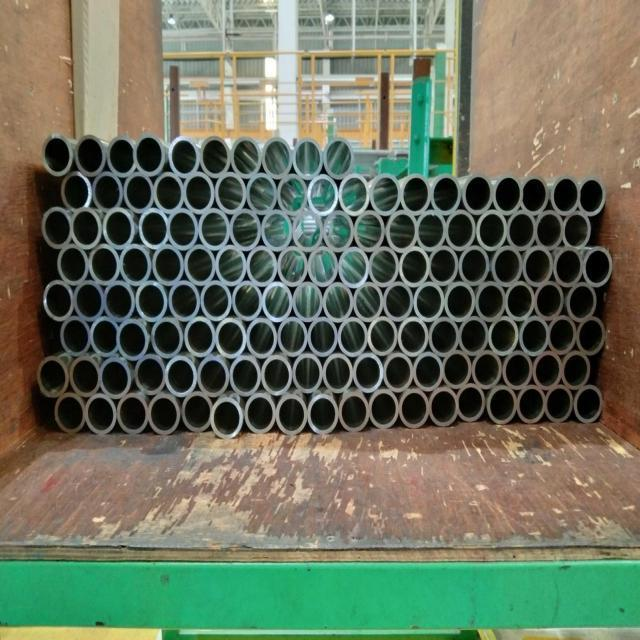pipe: (133, 353, 166, 398), (74, 132, 107, 177), (100, 354, 132, 400), (102, 207, 136, 250), (150, 316, 184, 359), (135, 279, 168, 323), (117, 317, 150, 361), (229, 354, 261, 399), (197, 354, 229, 399), (70, 353, 101, 399), (37, 355, 70, 398), (148, 391, 181, 434), (168, 279, 200, 323), (184, 316, 216, 360), (261, 353, 293, 397), (165, 354, 197, 398), (211, 394, 243, 438), (135, 133, 167, 177), (152, 243, 184, 286), (184, 243, 216, 286), (117, 391, 149, 434), (214, 171, 246, 214), (338, 173, 370, 216), (71, 206, 102, 250), (292, 208, 323, 252), (261, 209, 292, 253), (386, 209, 417, 253), (120, 242, 151, 286), (104, 279, 135, 323), (215, 316, 246, 360), (339, 389, 370, 433), (308, 391, 339, 435), (200, 134, 231, 178), (262, 135, 293, 179), (247, 171, 278, 215), (370, 172, 401, 216), (292, 352, 322, 397), (459, 245, 491, 287), (491, 245, 523, 287), (168, 136, 200, 178), (138, 207, 169, 250), (230, 208, 261, 251), (476, 209, 507, 252), (354, 209, 385, 252), (58, 242, 89, 285), (89, 243, 120, 286), (74, 279, 105, 322), (201, 279, 232, 322), (475, 280, 506, 323), (444, 280, 475, 323), (232, 280, 263, 323), (246, 317, 277, 360), (245, 391, 276, 434), (276, 392, 307, 435), (231, 135, 262, 178), (92, 170, 123, 213), (123, 171, 154, 214), (183, 171, 214, 214), (431, 172, 462, 215), (199, 207, 229, 251), (324, 209, 354, 253), (353, 351, 383, 395), (42, 134, 74, 175), (522, 245, 553, 287), (553, 245, 584, 287), (414, 281, 445, 323), (566, 281, 597, 323), (85, 393, 116, 435), (293, 137, 324, 179), (61, 170, 92, 212), (462, 173, 493, 215), (42, 206, 72, 249), (168, 207, 198, 250), (416, 208, 446, 251), (446, 209, 476, 252), (308, 245, 338, 288), (369, 245, 399, 288), (399, 245, 429, 288), (338, 245, 368, 288), (262, 280, 292, 323), (292, 280, 322, 323), (277, 316, 307, 359), (383, 351, 413, 394), (323, 353, 353, 396), (182, 390, 212, 433), (154, 171, 184, 214), (401, 172, 431, 215), (277, 173, 307, 216), (308, 173, 338, 216), (43, 280, 74, 321), (534, 280, 565, 321), (488, 316, 519, 357), (458, 316, 489, 357), (429, 316, 460, 357), (502, 350, 533, 391), (55, 392, 86, 433), (216, 244, 246, 286), (429, 245, 459, 287), (247, 245, 277, 287), (277, 245, 307, 287), (505, 280, 535, 322), (383, 281, 413, 323), (353, 281, 383, 323), (323, 282, 353, 324), (519, 315, 549, 357), (60, 315, 90, 357), (368, 316, 398, 358), (398, 316, 428, 358), (338, 317, 368, 359), (308, 317, 338, 359), (413, 351, 443, 393), (399, 387, 429, 429), (107, 135, 137, 177), (507, 209, 536, 252), (90, 315, 119, 358), (472, 350, 503, 390), (532, 350, 562, 391), (487, 383, 517, 424), (369, 388, 399, 429), (561, 349, 590, 391), (324, 137, 353, 179), (493, 174, 522, 216), (582, 246, 612, 286), (548, 315, 577, 356), (443, 350, 472, 391), (457, 382, 486, 423), (517, 383, 546, 424), (521, 175, 550, 216), (551, 175, 580, 216), (430, 385, 458, 427), (545, 383, 574, 423), (535, 209, 563, 250), (563, 210, 591, 251), (576, 316, 605, 355), (574, 384, 603, 423), (578, 176, 605, 215)
